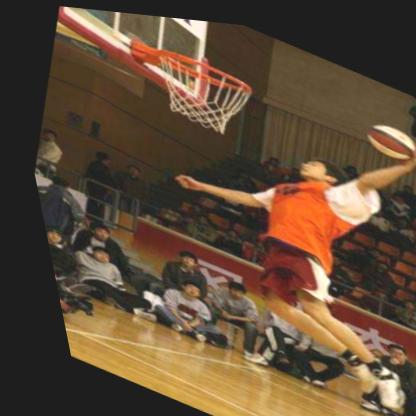basketball: (356, 109, 416, 158)
rim: (138, 41, 262, 142)
